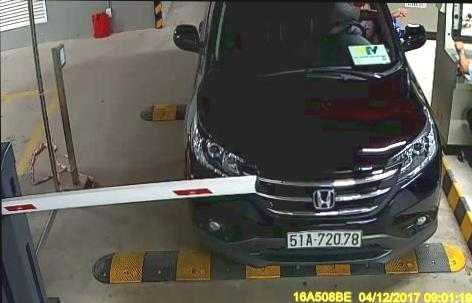License_Plate: (284, 225, 365, 253)
